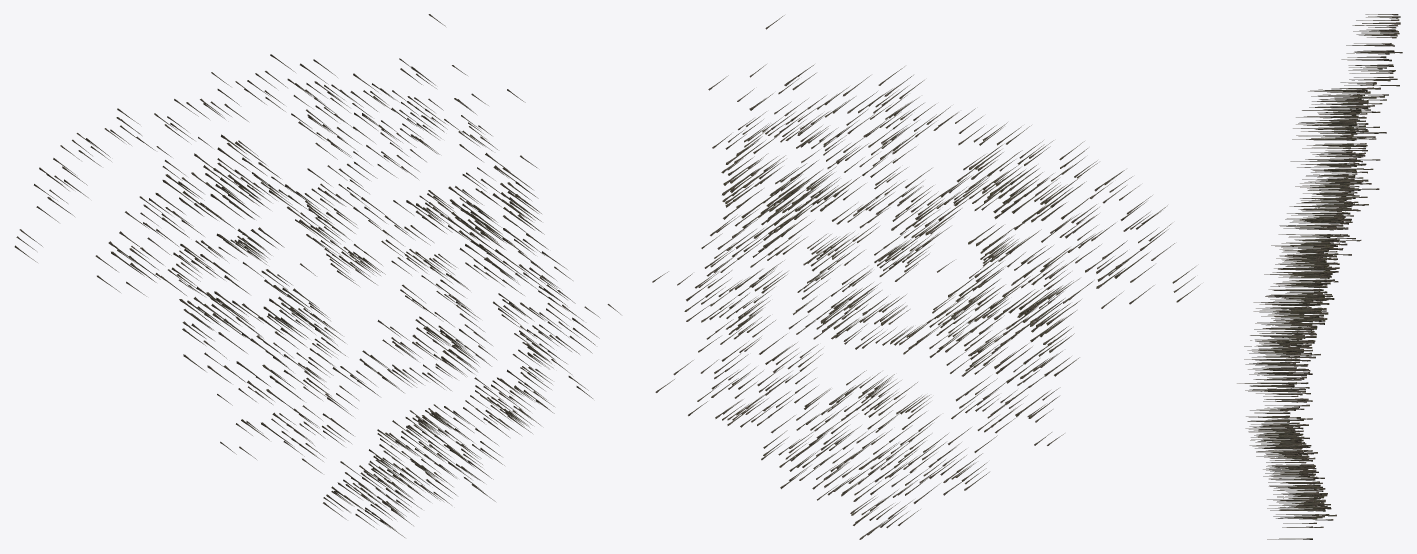
3 views of the same model, side by side, from view 1: azimuth 30°, elevation 25°; view 2: azimuth 150°, elevation 25°; view 3: azimuth 270°, elevation 25° (orthographic). The views are drawn at different scales.
Bounding box in the file's own units: 354 × 295 × 105.
Materials: 1 (1 with a texture image).
